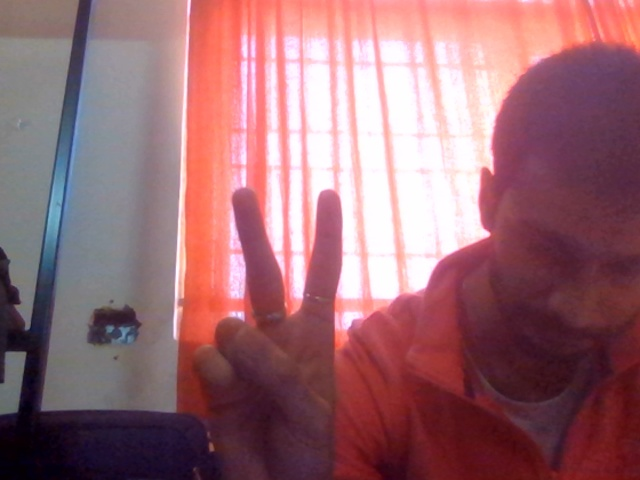V: (187, 163, 421, 480)
